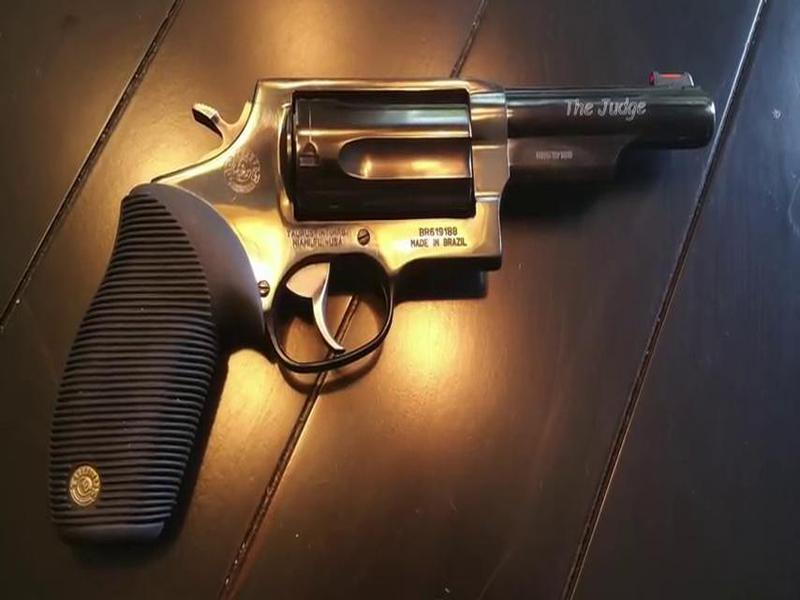Revolver: (59, 67, 723, 550)
